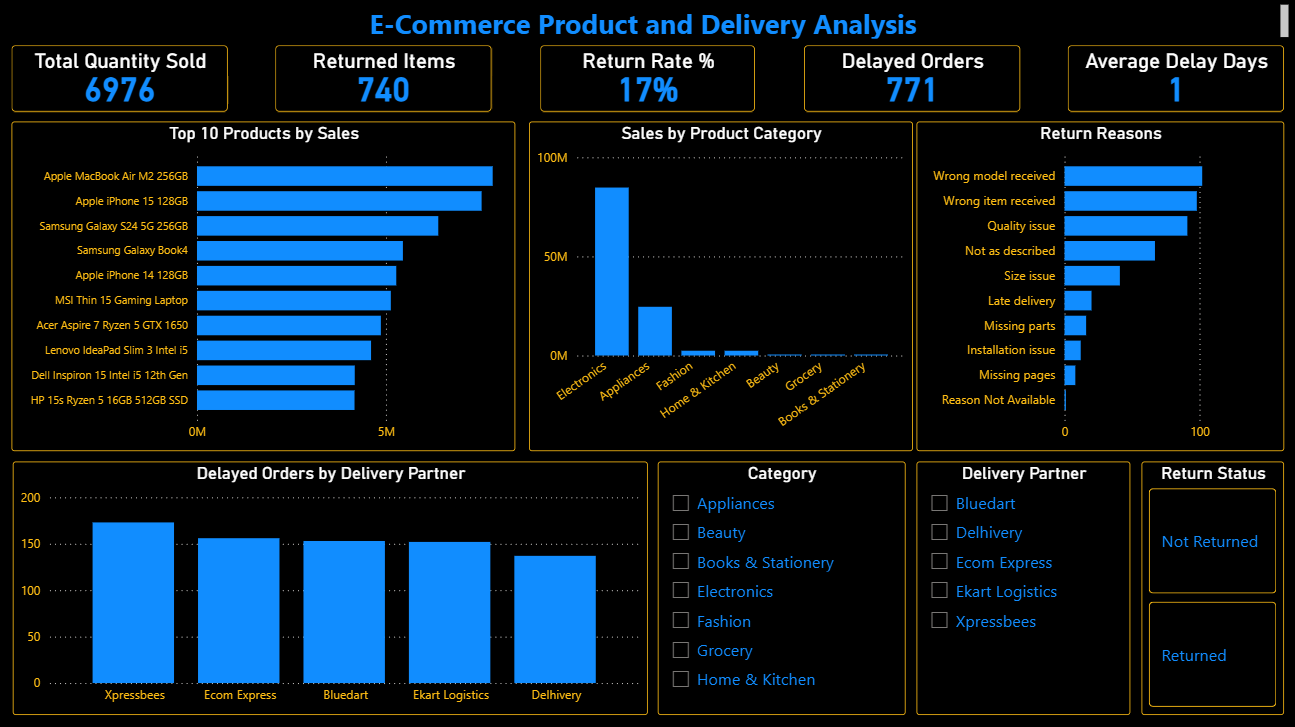

The page's visual inventory and layout, read from the dashboard file:
{"tool":"powerbi","page":{"name":"Product and Delivery Analysis","canvas":[1280,720],"ordinal":1},"visuals":[{"type":"textbox","box":[0,0,1280,45.3],"z":0},{"type":"advanceCardE03760C5AB684758B56AA29F9E6C257B","title":"Total Quantity Sold","fields":{"mainMeasure":["order_items_cleaned.Total Quantity Sold"]},"box":[12.3,45.7,213.6,65.4],"z":1000},{"type":"advanceCardE03760C5AB684758B56AA29F9E6C257B","title":"Returned Items","fields":{"mainMeasure":["deliveries_cleaned.Returned Items"]},"box":[272.8,45.7,213.6,65.4],"z":2000},{"type":"advanceCardE03760C5AB684758B56AA29F9E6C257B","title":"Return Rate %","fields":{"mainMeasure":["deliveries_cleaned.Return Rate %"]},"box":[534.6,45.7,212.3,65.4],"z":3000},{"type":"clusteredBarChart","title":"Top 10 Products by Sales","fields":{"Category":["products_cleaned.product_name"],"Y":["order_items_cleaned.Total Sales"]},"box":[12.3,121,497.5,325.9],"z":4000},{"type":"clusteredColumnChart","title":"Sales by Product Category","fields":{"Category":["products_cleaned.category"],"Y":["order_items_cleaned.Total Sales"]},"box":[523.5,121,379,325.9],"z":5000},{"type":"slicer","title":"Category","fields":{"Values":["products_cleaned.category"]},"box":[650.6,456.8,244.4,250.6],"z":6000},{"type":"advanceCardE03760C5AB684758B56AA29F9E6C257B","title":"Delayed Orders","fields":{"mainMeasure":["deliveries_cleaned.Delayed Orders"]},"box":[795.1,45.7,213.6,65.4],"z":7000},{"type":"advanceCardE03760C5AB684758B56AA29F9E6C257B","title":"Average Delay Days","fields":{"mainMeasure":["deliveries_cleaned.Average Delay Days"]},"box":[1055.6,45.7,213.6,65.4],"z":8000},{"type":"clusteredBarChart","title":"Return Reasons","fields":{"Category":["order_items_cleaned.return_reason"],"Y":["deliveries_cleaned.Returned Items"]},"box":[906.2,121,363,325.9],"z":9000},{"type":"columnChart","title":"Delayed Orders by Delivery Partner","fields":{"Category":["deliveries_cleaned.delivery_partner"],"Y":["deliveries_cleaned.Delayed Orders"]},"box":[13.6,456.8,627.2,250.6],"z":10000},{"type":"slicer","title":"Delivery Partner","fields":{"Values":["deliveries_cleaned.delivery_partner"]},"box":[906.2,456.8,211.1,250.6],"z":11000},{"type":"advancedSlicerVisual","title":"Return Status","fields":{"Values":["order_items_cleaned.return_status"]},"box":[1128.4,456.8,140.7,250.6],"z":12000}]}

Visuals, with their boxes in screenshot pixels (x1, y1, x2, y2), scaled from the page's 1280x720 canvas onto the 1295x727 screenshot:
textbox: x1=0 y1=0 x2=1294 y2=46
"Total Quantity Sold" advanceCardE03760C5AB684758B56AA29F9E6C257B: x1=12 y1=46 x2=229 y2=112
"Returned Items" advanceCardE03760C5AB684758B56AA29F9E6C257B: x1=276 y1=46 x2=492 y2=112
"Return Rate %" advanceCardE03760C5AB684758B56AA29F9E6C257B: x1=541 y1=46 x2=756 y2=112
"Top 10 Products by Sales" clusteredBarChart: x1=12 y1=122 x2=516 y2=451
"Sales by Product Category" clusteredColumnChart: x1=530 y1=122 x2=913 y2=451
"Category" slicer: x1=658 y1=461 x2=905 y2=714
"Delayed Orders" advanceCardE03760C5AB684758B56AA29F9E6C257B: x1=804 y1=46 x2=1021 y2=112
"Average Delay Days" advanceCardE03760C5AB684758B56AA29F9E6C257B: x1=1068 y1=46 x2=1284 y2=112
"Return Reasons" clusteredBarChart: x1=917 y1=122 x2=1284 y2=451
"Delayed Orders by Delivery Partner" columnChart: x1=14 y1=461 x2=648 y2=714
"Delivery Partner" slicer: x1=917 y1=461 x2=1130 y2=714
"Return Status" advancedSlicerVisual: x1=1142 y1=461 x2=1284 y2=714
